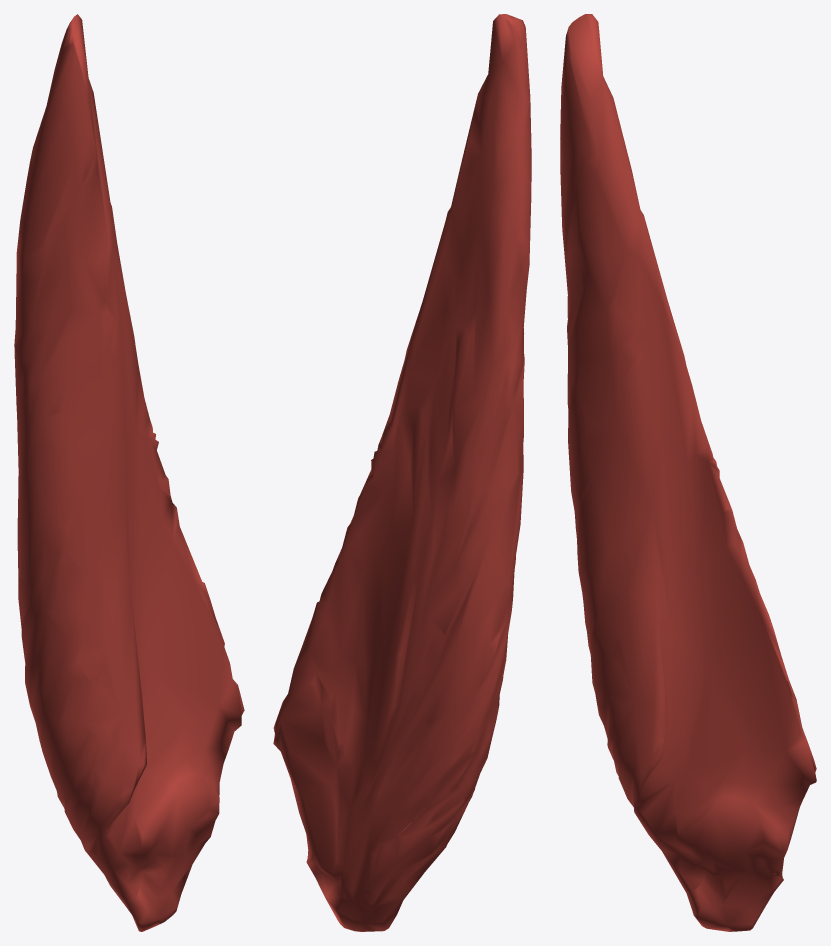
The model's file is musculos-medial-head-of-triceps-brachii-l.glb.
3 views of the same model, side by side, from view 1: azimuth 30°, elevation 25°; view 2: azimuth 150°, elevation 25°; view 3: azimuth 330°, elevation 25° (orthographic). The views are drawn at different scales.
Parts seen in each view (by area): view 1: Medial head of triceps brachii.l; view 2: Medial head of triceps brachii.l; view 3: Medial head of triceps brachii.l.
Part boxes in pixels (box(x1,y1,x2,y2)): Medial head of triceps brachii.l: box(14, 14, 244, 931); Medial head of triceps brachii.l: box(273, 14, 531, 931); Medial head of triceps brachii.l: box(560, 14, 816, 931).
Bounding box in the file's own units: 0.0623 × 0.2343 × 0.0266.
